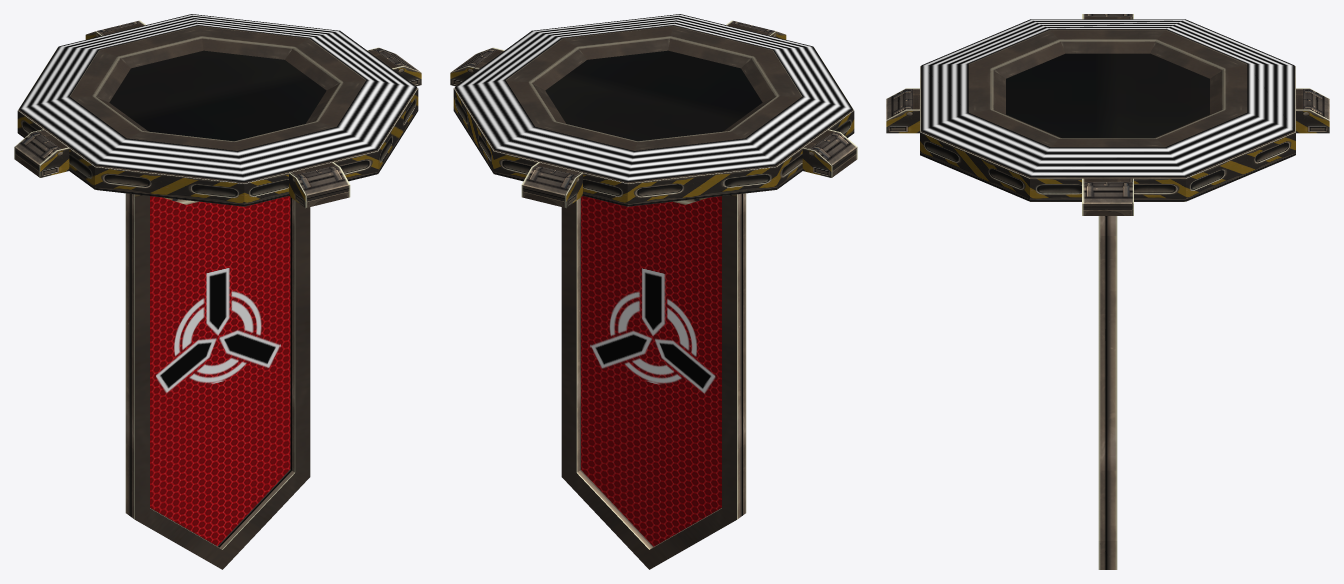
File: DOM_FLAG_main.FBX
3 views of the same model, side by side, from view 1: azimuth 30°, elevation 25°; view 2: azimuth 150°, elevation 25°; view 3: azimuth 270°, elevation 25° (orthographic).
Visible parts, largest first — view 1: flag_color, DOM_FLAG_patka, patka_COLOR_05, DOM_FLAG_tercik; view 2: flag_color, DOM_FLAG_patka, patka_COLOR_05, DOM_FLAG_tercik; view 3: DOM_FLAG_patka, patka_COLOR_05, DOM_FLAG_tercik.
Part boxes in pixels (<box>): flag_color: <box>150,196,290,545</box>; DOM_FLAG_patka: <box>14,20,421,207</box>; patka_COLOR_05: <box>19,14,416,181</box>; DOM_FLAG_tercik: <box>125,193,310,569</box>; flag_color: <box>581,196,721,546</box>; DOM_FLAG_patka: <box>450,20,857,207</box>; patka_COLOR_05: <box>455,14,852,181</box>; DOM_FLAG_tercik: <box>561,193,746,569</box>; DOM_FLAG_patka: <box>886,14,1329,215</box>; patka_COLOR_05: <box>921,19,1294,176</box>; DOM_FLAG_tercik: <box>1098,216,1117,569</box>.
Size of the model in its own units: 342 by 410 by 342.
3 materials, 3 textured.
